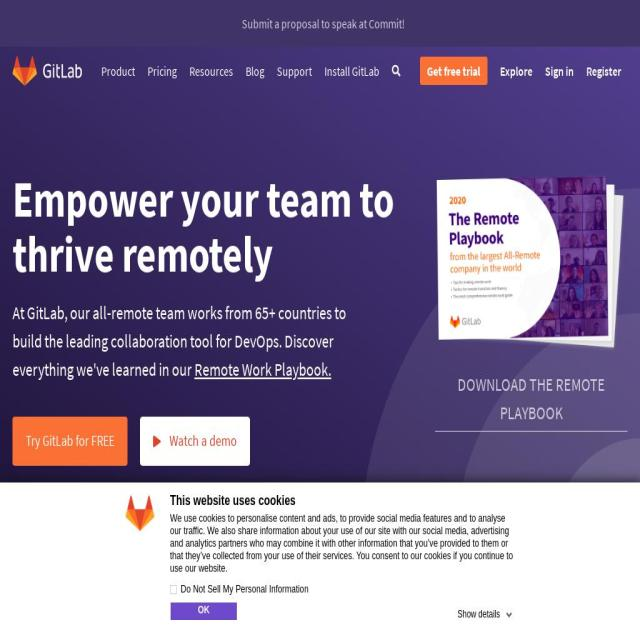button: (435, 176, 627, 424), (0, 0, 640, 47), (12, 416, 128, 466), (140, 416, 250, 466), (12, 56, 94, 86), (420, 57, 488, 85), (429, 630, 612, 640), (28, 630, 210, 640), (229, 630, 411, 640), (171, 602, 237, 620), (456, 602, 516, 620)
heading: (170, 482, 515, 640), (12, 172, 416, 282)
image: (452, 314, 640, 564), (436, 176, 626, 353), (12, 56, 94, 86), (126, 494, 154, 533)
label: (170, 582, 309, 596)
link: (241, 14, 405, 34), (324, 50, 380, 92), (189, 50, 233, 92), (586, 50, 622, 92), (277, 50, 312, 92), (101, 50, 135, 92), (500, 50, 532, 92), (147, 50, 177, 92), (545, 50, 574, 92), (246, 50, 264, 92)
text: (101, 530, 539, 598), (12, 301, 346, 381), (170, 513, 515, 575), (435, 369, 627, 432), (195, 357, 332, 381), (167, 431, 237, 450)
